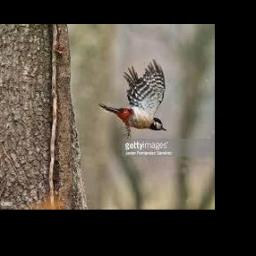Woodpecker: (98, 59, 166, 137)
